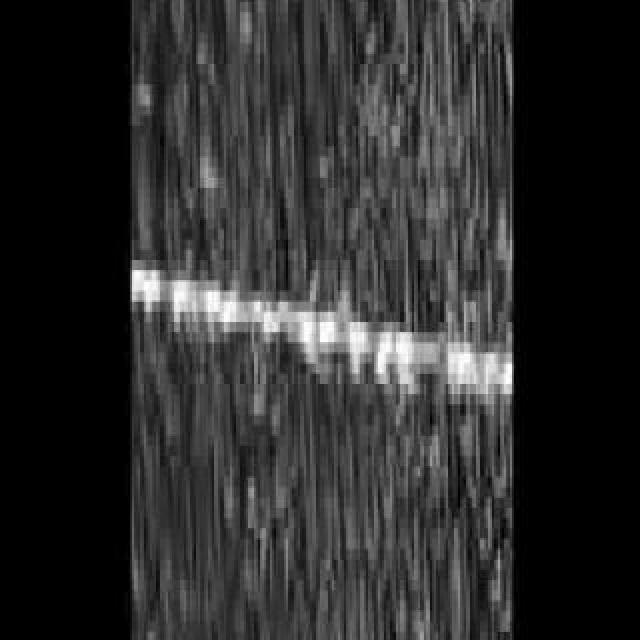Dusty: (132, 0, 516, 640)
